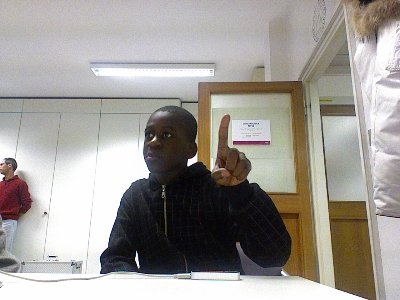食指: (209, 113, 252, 189)
